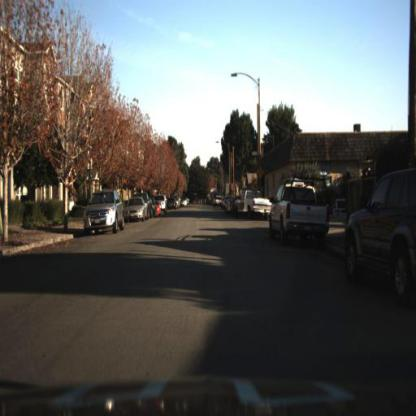car: (344, 166, 416, 311), (267, 173, 335, 250), (82, 187, 126, 240), (234, 186, 273, 217), (124, 195, 150, 222)
